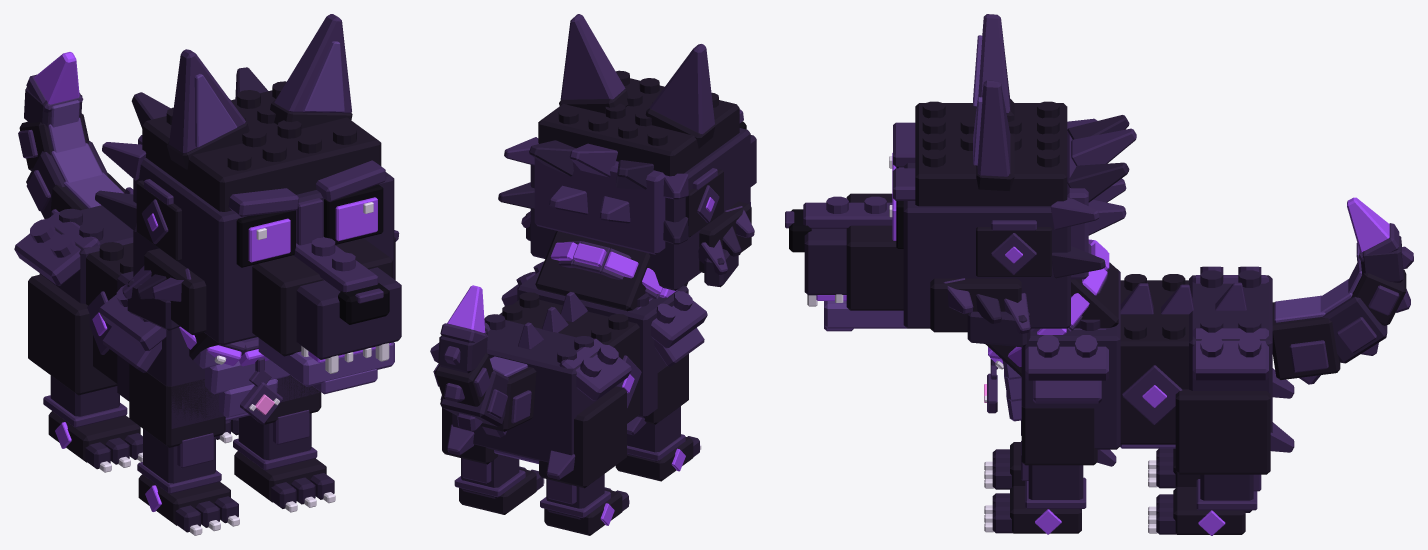
File: VoidPup.fbx
The picture shows the model from 3 angles, left to right: view 1: azimuth 30°, elevation 25°; view 2: azimuth 150°, elevation 25°; view 3: azimuth 270°, elevation 25°; orthographic projection. The views are drawn at different scales.
Visible parts, largest first — view 1: Head, Body, LegBR, LegFR, Tail, LegFL, EarL, EarR, Head_NeonViolet, Tail_NeonViolet, Body_NeonViolet; view 2: Head, Body, LegBR, Tail, LegFR, LegBL, EarL, EarR, Body_NeonViolet, Tail_NeonViolet; view 3: Head, Body, LegBL, Tail, LegFL, EarL, EarR, Body_NeonViolet, LegBR, LegFR, Tail_NeonViolet.
Part boxes in pixels (x1,y1,x2,y2): Head: (95,67,401,394); Body: (14,187,319,428); LegBR: (28,274,142,472); LegFR: (129,363,239,535); Tail: (18,74,125,218); LegFL: (233,375,335,512); EarL: (270,14,352,128); EarR: (167,49,249,169); Head_NeonViolet: (147,197,391,362); Tail_NeonViolet: (34,52,79,104); Body_NeonViolet: (92,312,269,366); Head: (498,70,756,290); Body: (430,231,707,463); LegBR: (539,386,629,535); Tail: (433,323,536,437); LegFR: (615,354,701,481); LegBL: (442,408,544,514); EarL: (559,14,628,113); EarR: (645,44,715,148); Body_NeonViolet: (550,242,677,393); Tail_NeonViolet: (447,285,485,332); Head: (785,101,1136,347); Body: (984,244,1272,449); LegBL: (1148,389,1294,534); Tail: (1272,223,1413,384); LegFL: (984,406,1116,533); EarL: (973,80,1014,191); EarR: (973,14,1014,121); Body_NeonViolet: (988,239,1166,407); LegBR: (1148,368,1294,488); LegFR: (984,420,1025,489); Tail_NeonViolet: (1347,197,1389,252).
Size of the model in its own units: 1.4 by 2.63 by 3.31.
Materials: 2 (2 with a texture image).
